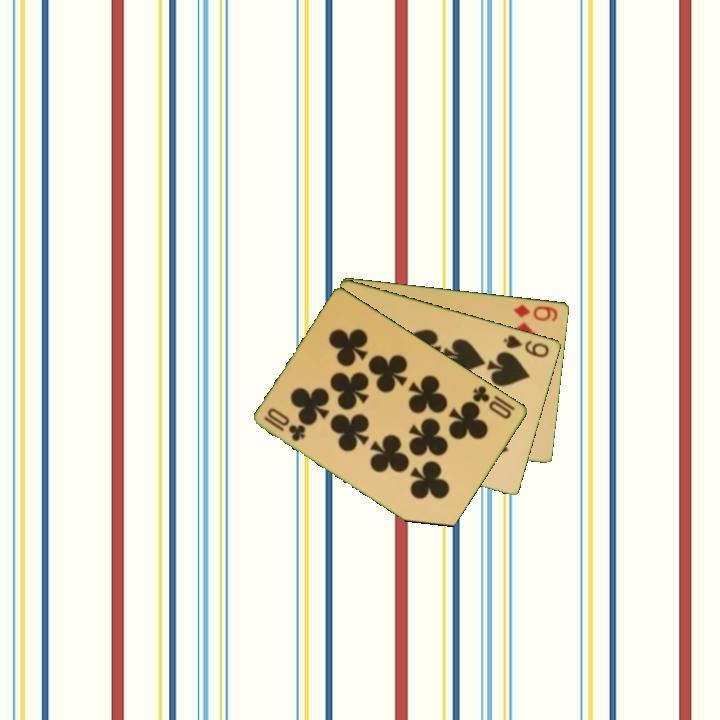10c: (261, 404, 309, 444), (469, 382, 515, 422)
6d: (510, 301, 561, 324)
9s: (500, 331, 552, 360)
